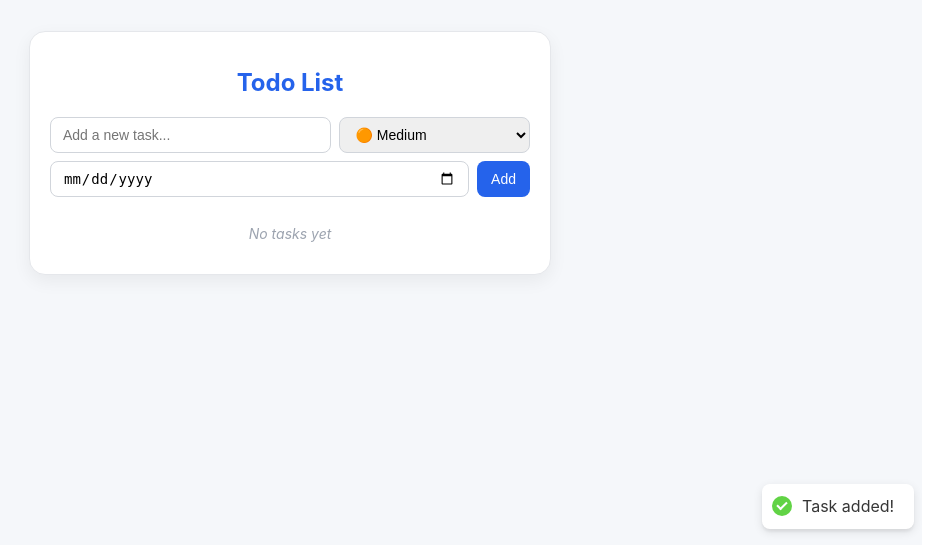
Scenario: App Component › allows a user to add a new todo with custom priority and date
Expected: the list item "No tasks yet" is shown, [249, 225, 331, 242]
Type "New Task with Custom Settings" into the field at (190, 135), box [50, 117, 330, 153]
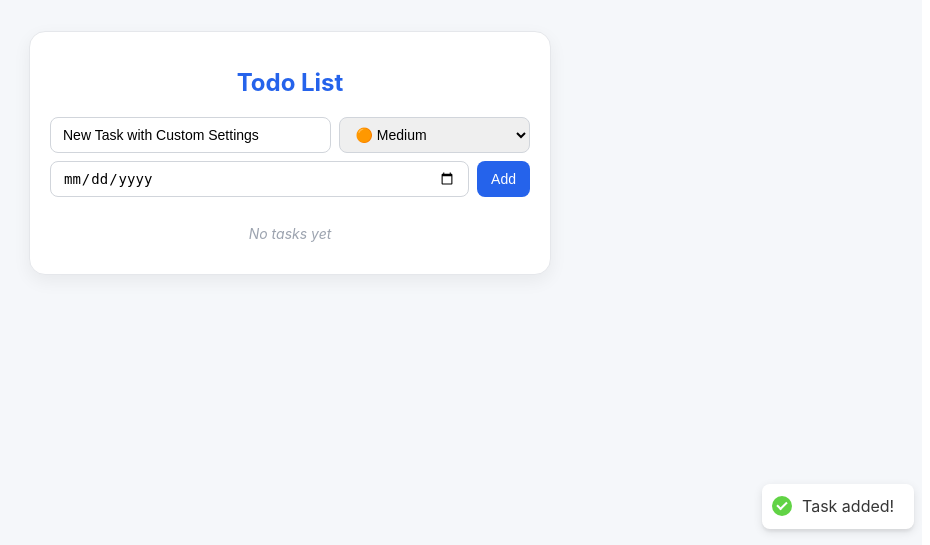
Select "🔴 High" in the dropdown at (434, 135), box [338, 117, 530, 153]
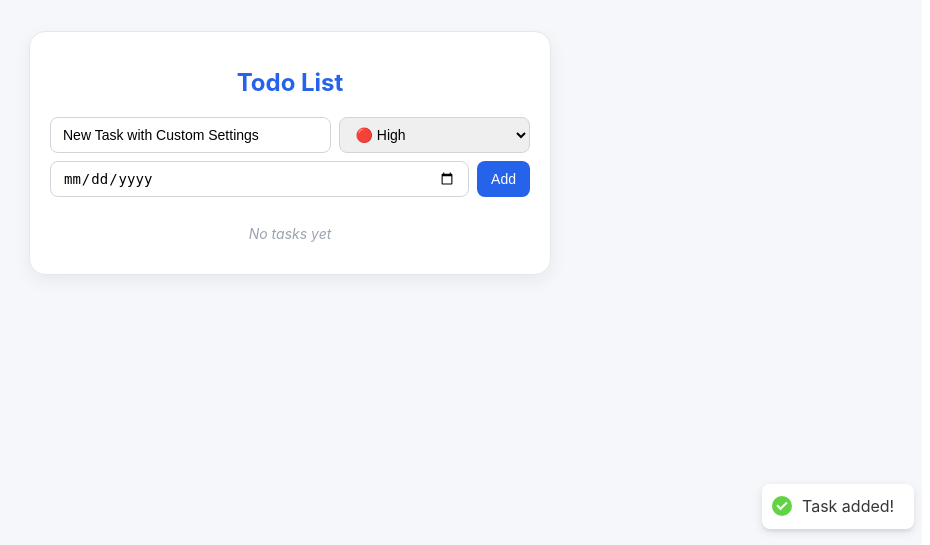
Type "2025-08-25" into the date field at (260, 179), box [50, 161, 469, 197]
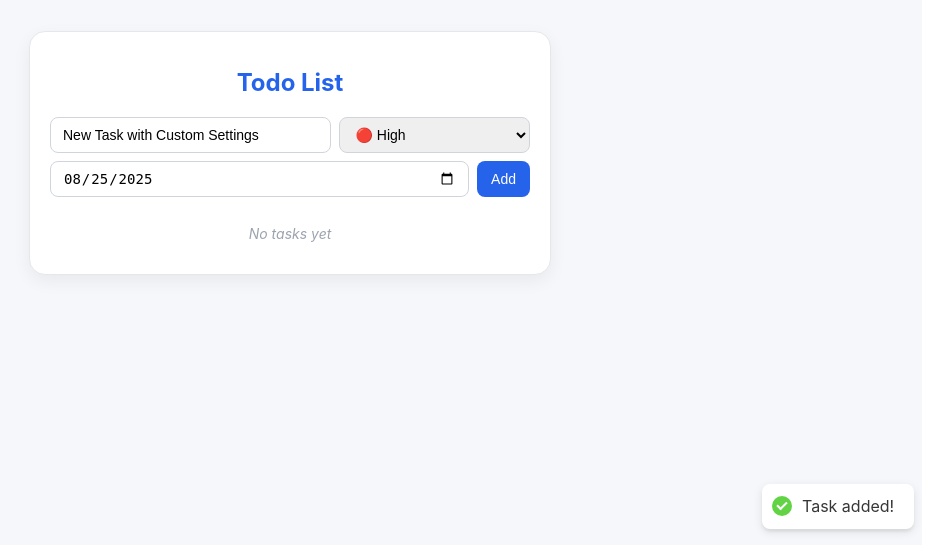
Click the button "Add" at (504, 179), box [477, 161, 530, 197]
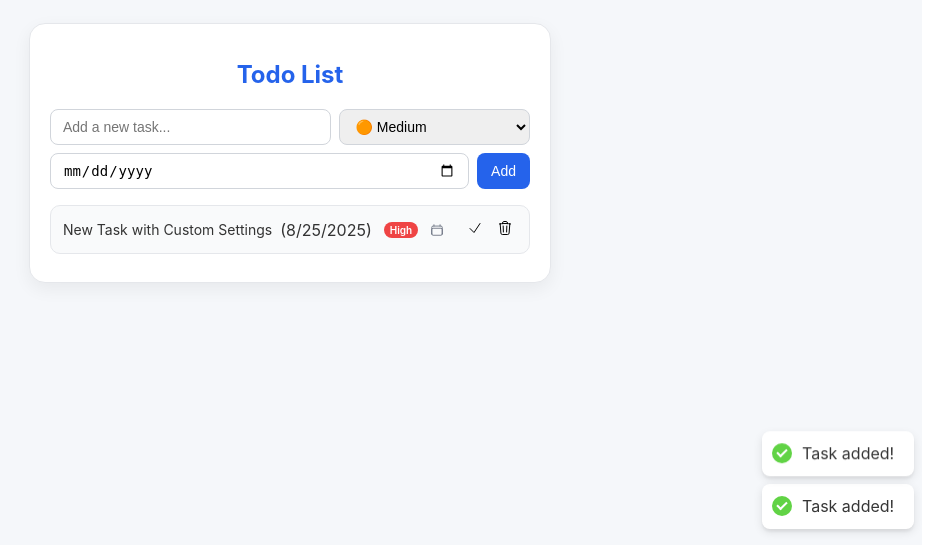
Result: the text "New Task with Custom Settings" is shown at [63, 221, 272, 238]
